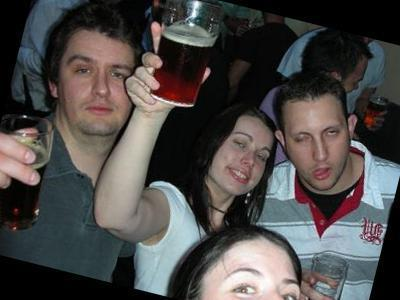Drunk: (63, 30, 136, 133), (286, 96, 350, 191), (220, 112, 270, 193)
